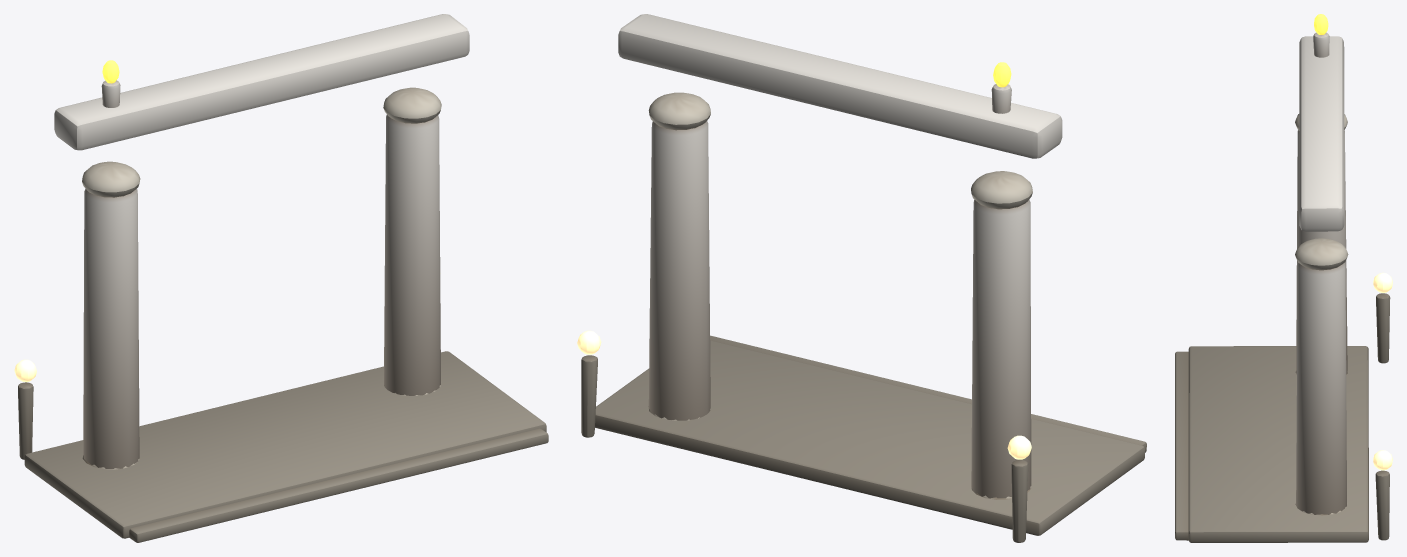
3 views of the same model, side by side, from view 1: azimuth 30°, elevation 25°; view 2: azimuth 150°, elevation 25°; view 3: azimuth 270°, elevation 25° (orthographic). The views are drawn at different scales.
Visible parts, largest first — view 1: gate_556c03e8; view 2: gate_556c03e8; view 3: gate_556c03e8.
Part boxes in pixels (left/top/right/bottom): gate_556c03e8: left=14, top=14, right=548, bottom=542; gate_556c03e8: left=577, top=14, right=1146, bottom=542; gate_556c03e8: left=1175, top=14, right=1392, bottom=542.
Bounding box in the file's own units: 5.16 × 4.77 × 2.54.
